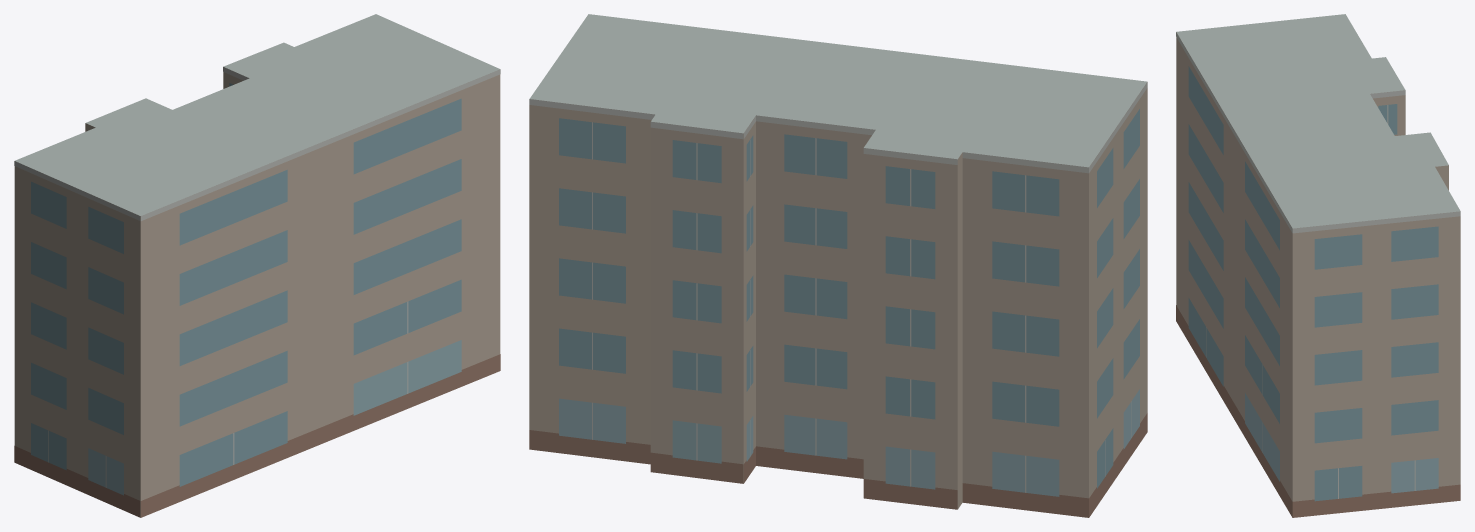
The model's file is survey-upis-32665164.glb.
3 views of the same model, side by side, from view 1: azimuth 30°, elevation 25°; view 2: azimuth 150°, elevation 25°; view 3: azimuth 270°, elevation 25° (orthographic). The views are drawn at different scales.
Parts seen in each view (by area): view 1: survey-upis-32665164.tmp; view 2: survey-upis-32665164.tmp; view 3: survey-upis-32665164.tmp.
Part boxes in pixels (left/top/right/bottom): survey-upis-32665164.tmp: left=14, top=14, right=500, bottom=517; survey-upis-32665164.tmp: left=529, top=14, right=1147, bottom=517; survey-upis-32665164.tmp: left=1176, top=14, right=1460, bottom=517.
Size of the model in its own units: 22.91 by 14.4 by 12.85.
